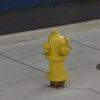Hydrant: (33, 22, 80, 98)
